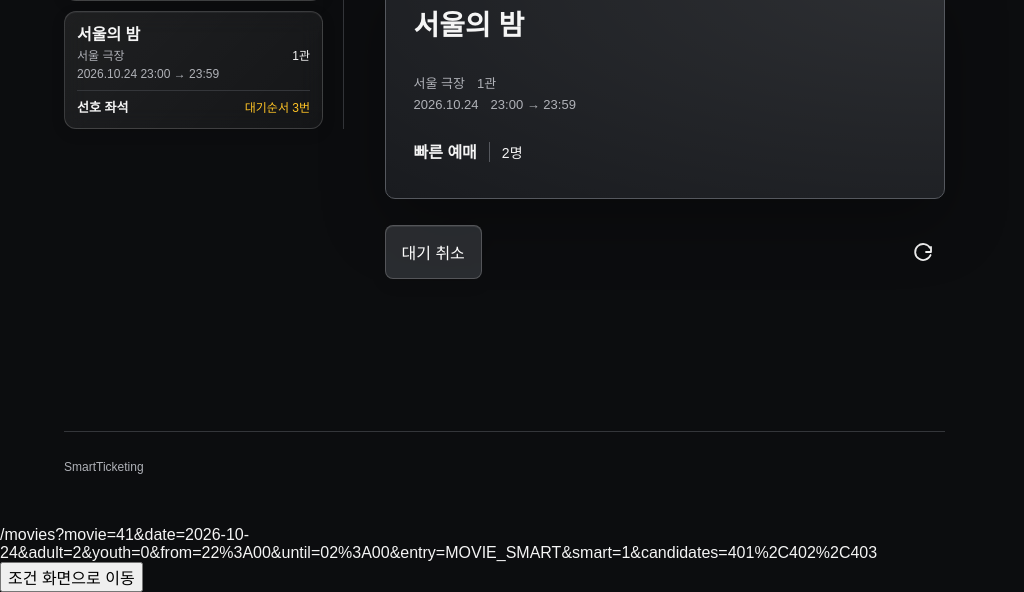
Scenario: cancelling one zone queue leaves both other queues waiting
The image size is (1024, 592).
(page scrolled)
Click the button "대기 취소" at {"x": 433, "y": 252}, box [384,225,482,279]
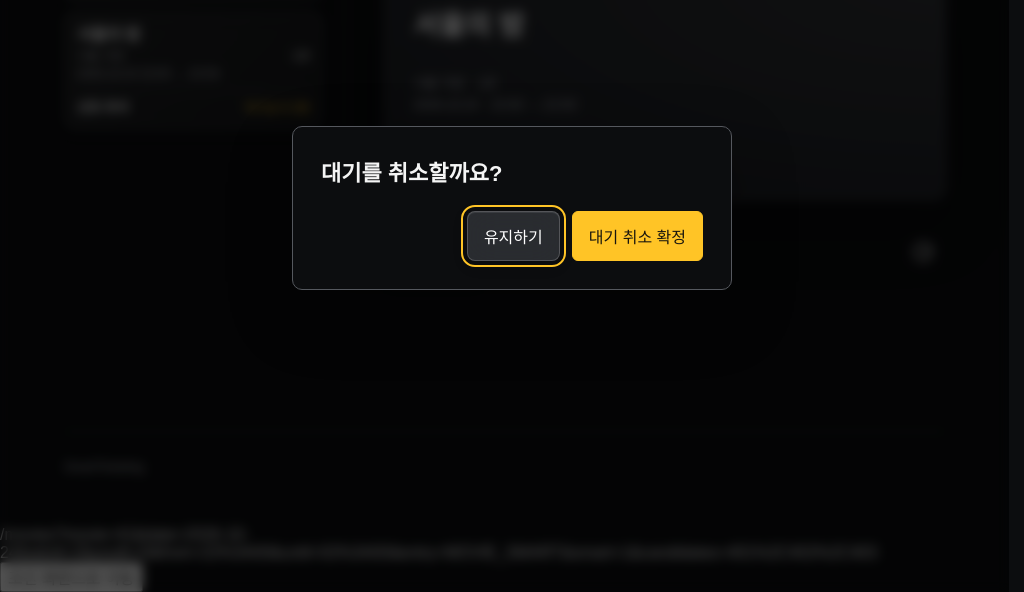
Click the button "유지하기" at {"x": 513, "y": 236}, box [467,211,560,261]
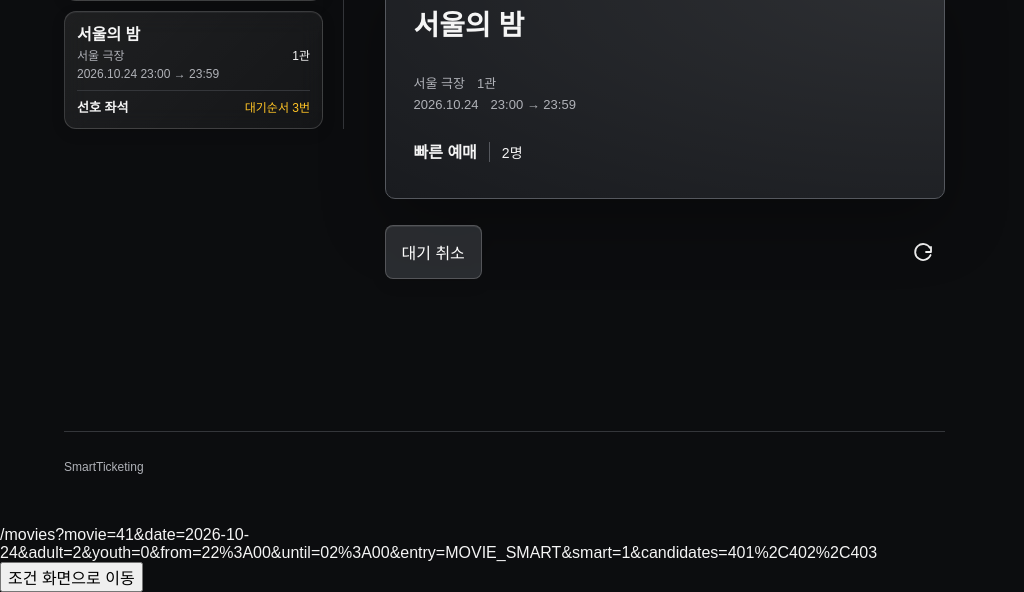
Expected: the dialog is gone
Click the button "대기 취소" at {"x": 433, "y": 252}, box [384,225,482,279]
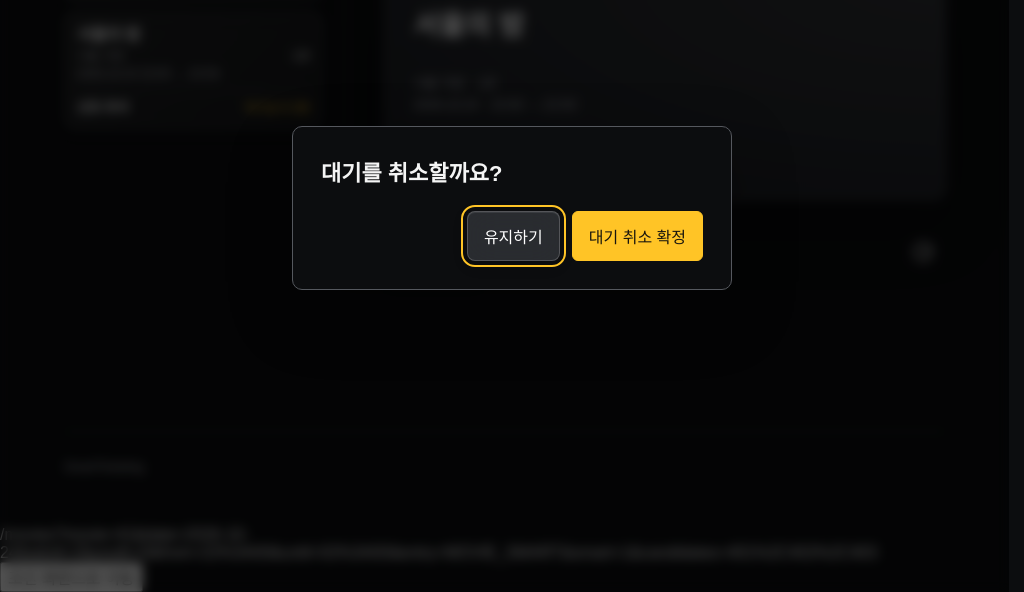
Click the button "대기 취소 확정" at {"x": 637, "y": 236}, box [572,211,703,261]
(page scrolled)
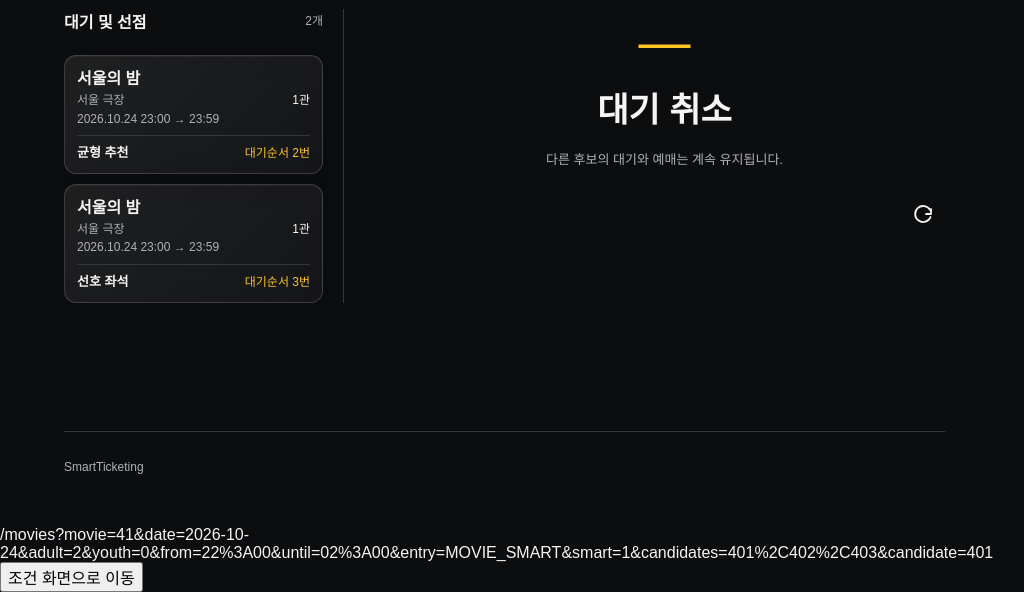
Expected: the heading "대기 취소" is shown, [597,91,732,129]
